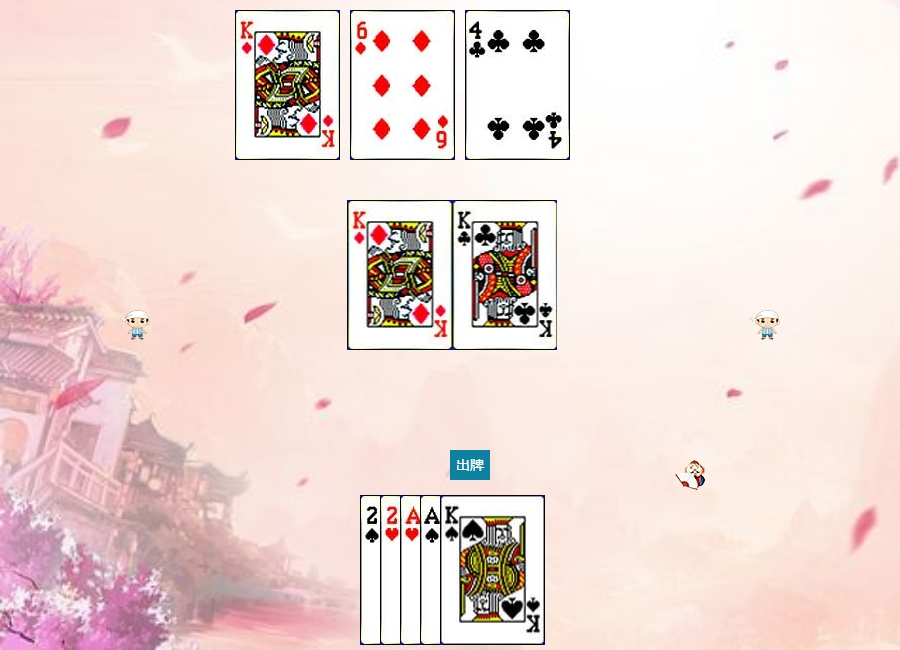13~1: (235, 10, 340, 160), (348, 200, 453, 350)
13~2: (453, 200, 558, 350)
13~4: (440, 495, 545, 645)
14~3: (400, 495, 505, 645)
14~4: (420, 495, 525, 645)
15~3: (380, 495, 485, 645)
15~4: (360, 495, 465, 645)
4~2: (465, 10, 570, 160)
6~1: (350, 10, 455, 160)
